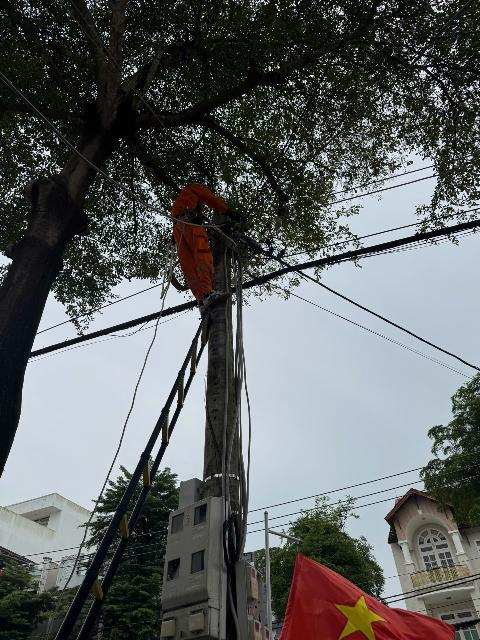gloves: (219, 203, 249, 225)
harness: (166, 205, 209, 233)
helmet: (182, 182, 207, 188)
shoes: (199, 286, 233, 309), (190, 295, 215, 318)
